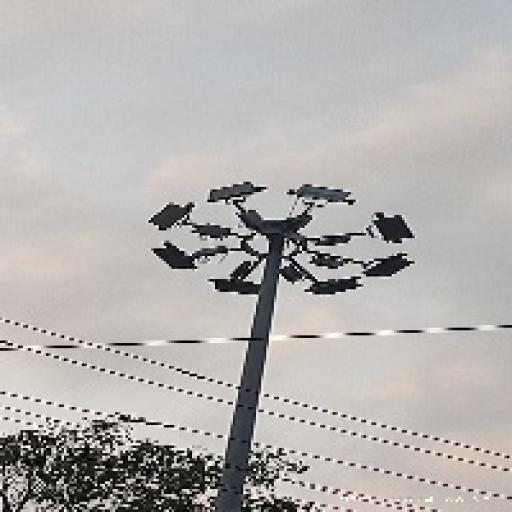Not Working: (280, 177, 359, 214), (364, 204, 416, 249), (148, 236, 201, 278), (199, 177, 268, 208), (145, 197, 197, 236), (356, 246, 416, 279), (303, 272, 366, 303), (207, 272, 262, 298), (306, 250, 352, 274), (186, 243, 230, 268), (305, 230, 364, 248), (189, 218, 233, 241), (276, 260, 306, 289)
